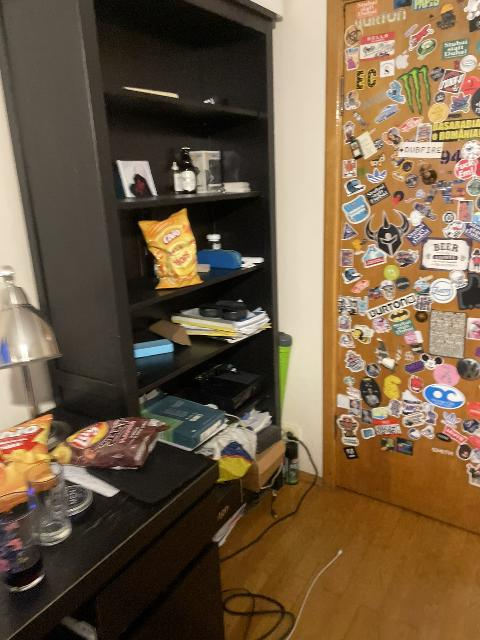Chio Cascaval 125g: (0, 415, 57, 518)
Chio Hula Hoops Cheese 70g: (137, 208, 204, 291)
Lays Beef Grilled Ribs 125g: (53, 416, 171, 469)
